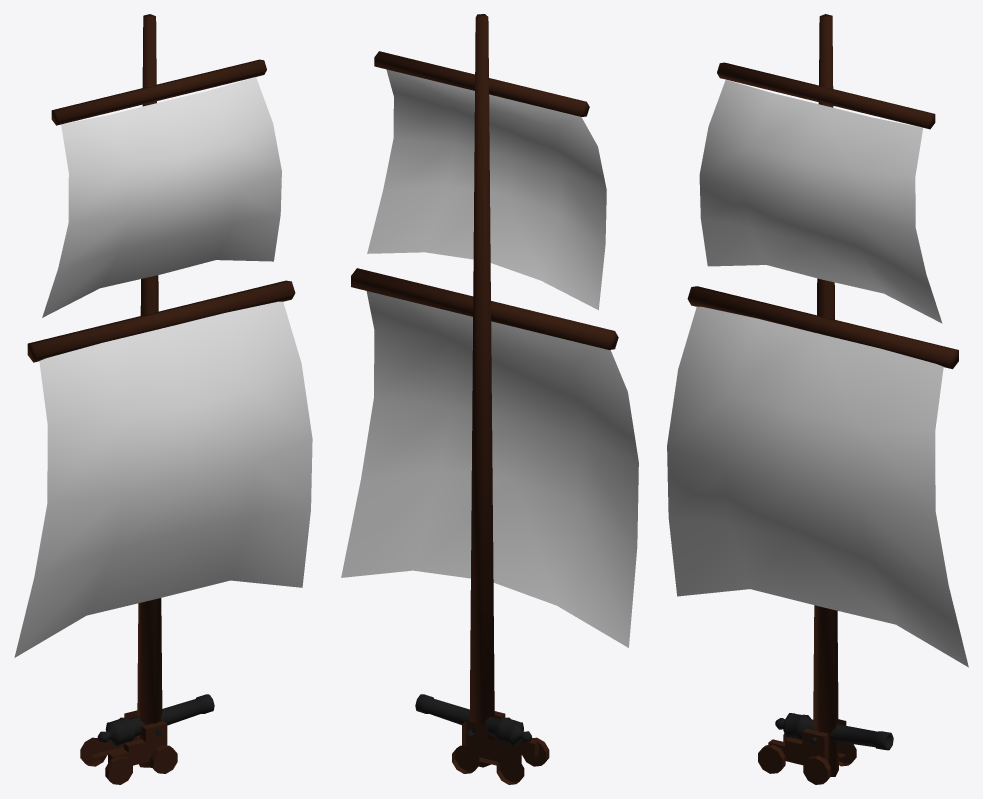
The model's file is foremast.obj.
3 views of the same model, side by side, from view 1: azimuth 30°, elevation 25°; view 2: azimuth 150°, elevation 25°; view 3: azimuth 330°, elevation 25° (orthographic).
Visible parts, largest first — view 1: Plane.014_Plane.001_SailCloth, Plane.015_Plane.001_SailCloth, Cylinder.032_Cylinder.001_Wood, Cylinder.031_Cylinder_Wood, Cylinder.033_Cylinder.001_Wood, CannonBarrel.001_Cylinder.002_Gunmetal, Cube.020_Cube.005_Wood, Cylinder.026_Cylinder.004_Wood, CannonWheel.001_Cylinder.004_Wood, Cube.019_Cube.005_Wood; view 2: Plane.014_Plane.001_SailCloth, Plane.015_Plane.001_SailCloth, Cylinder.031_Cylinder_Wood, Cylinder.032_Cylinder.001_Wood, Cylinder.033_Cylinder.001_Wood, CannonBarrel.001_Cylinder.002_Gunmetal, Cube.019_Cube.005_Wood, Cylinder.024_Cylinder.004_Wood, Cylinder.025_Cylinder.004_Wood; view 3: Plane.014_Plane.001_SailCloth, Plane.015_Plane.001_SailCloth, Cylinder.031_Cylinder_Wood, Cylinder.032_Cylinder.001_Wood, Cylinder.033_Cylinder.001_Wood, CannonBarrel.001_Cylinder.002_Gunmetal, Cube.020_Cube.005_Wood, Cylinder.026_Cylinder.004_Wood, CannonWheel.001_Cylinder.004_Wood.
Part boxes in pixels (x1,y1,x2,y2): Plane.014_Plane.001_SailCloth: (14, 301, 312, 657); Plane.015_Plane.001_SailCloth: (42, 77, 281, 317); Cylinder.032_Cylinder.001_Wood: (27, 280, 295, 362); Cylinder.031_Cylinder_Wood: (137, 14, 162, 767); Cylinder.033_Cylinder.001_Wood: (51, 59, 266, 125); CannonBarrel.001_Cylinder.002_Gunmetal: (97, 694, 214, 745); Cube.020_Cube.005_Wood: (108, 721, 167, 765); Cylinder.026_Cylinder.004_Wood: (150, 745, 177, 773); CannonWheel.001_Cylinder.004_Wood: (105, 756, 132, 784); Cube.019_Cube.005_Wood: (90, 710, 137, 757); Plane.014_Plane.001_SailCloth: (341, 291, 638, 647); Plane.015_Plane.001_SailCloth: (367, 69, 606, 309); Cylinder.031_Cylinder_Wood: (469, 14, 494, 767); Cylinder.032_Cylinder.001_Wood: (351, 268, 618, 349); Cylinder.033_Cylinder.001_Wood: (374, 51, 589, 116); CannonBarrel.001_Cylinder.002_Gunmetal: (415, 694, 532, 745); Cube.019_Cube.005_Wood: (462, 721, 521, 765); Cylinder.024_Cylinder.004_Wood: (496, 756, 524, 784); Cylinder.025_Cylinder.004_Wood: (452, 745, 479, 773); Plane.014_Plane.001_SailCloth: (667, 306, 968, 667); Plane.015_Plane.001_SailCloth: (699, 80, 942, 323); Cylinder.031_Cylinder_Wood: (813, 14, 838, 776); Cylinder.032_Cylinder.001_Wood: (687, 286, 958, 369); Cylinder.033_Cylinder.001_Wood: (717, 62, 935, 129); CannonBarrel.001_Cylinder.002_Gunmetal: (775, 713, 893, 750); Cube.020_Cube.005_Wood: (768, 728, 828, 765); Cylinder.026_Cylinder.004_Wood: (803, 755, 830, 784); CannonWheel.001_Cylinder.004_Wood: (758, 744, 785, 773).
Size of the model in its own units: 1.86 by 4.6 by 0.6069.
